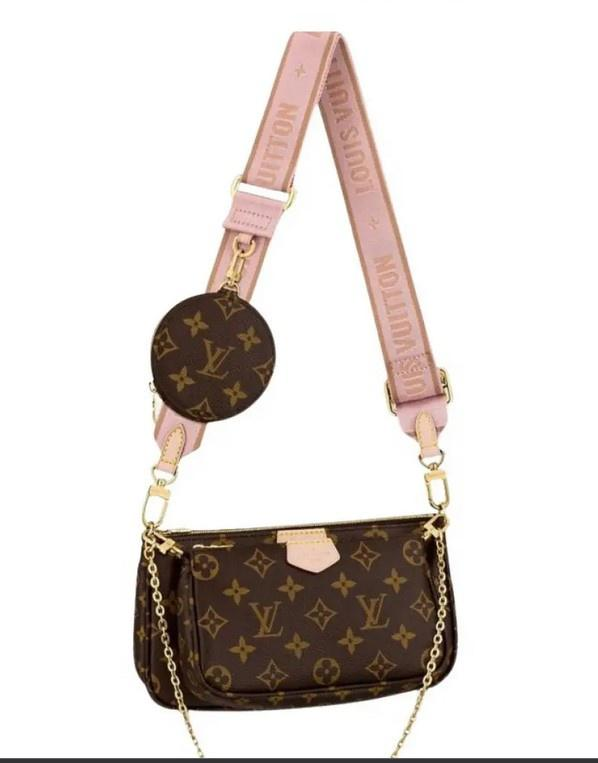LOUIS-VUITTON: (138, 521, 448, 711), (148, 288, 278, 429)
